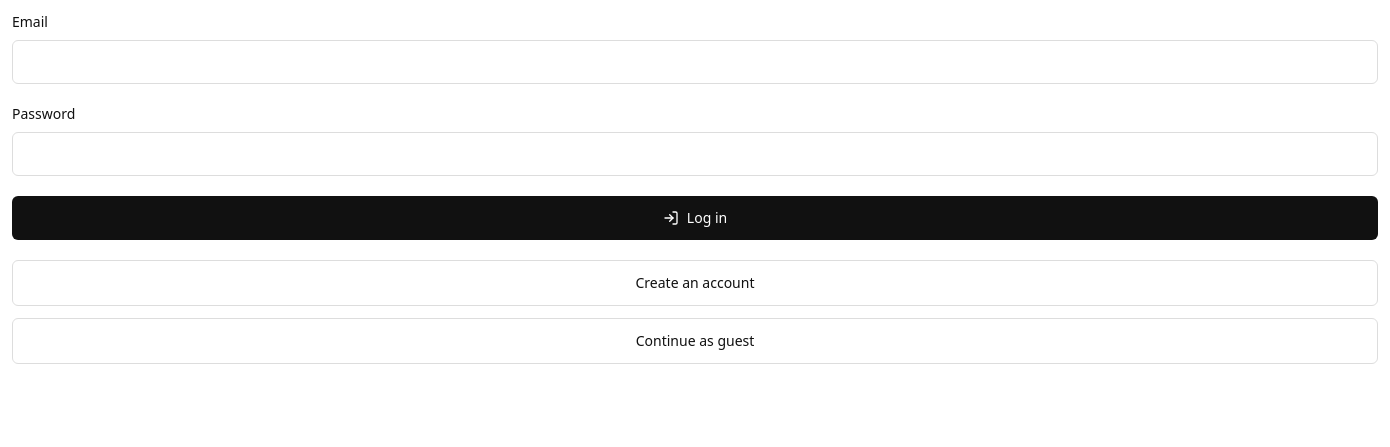
Scenario: LoginForm › validates before sending
Type "alice@" into the field labelled "Email" at (695, 62), box left=12, top=40, right=1378, bottom=84
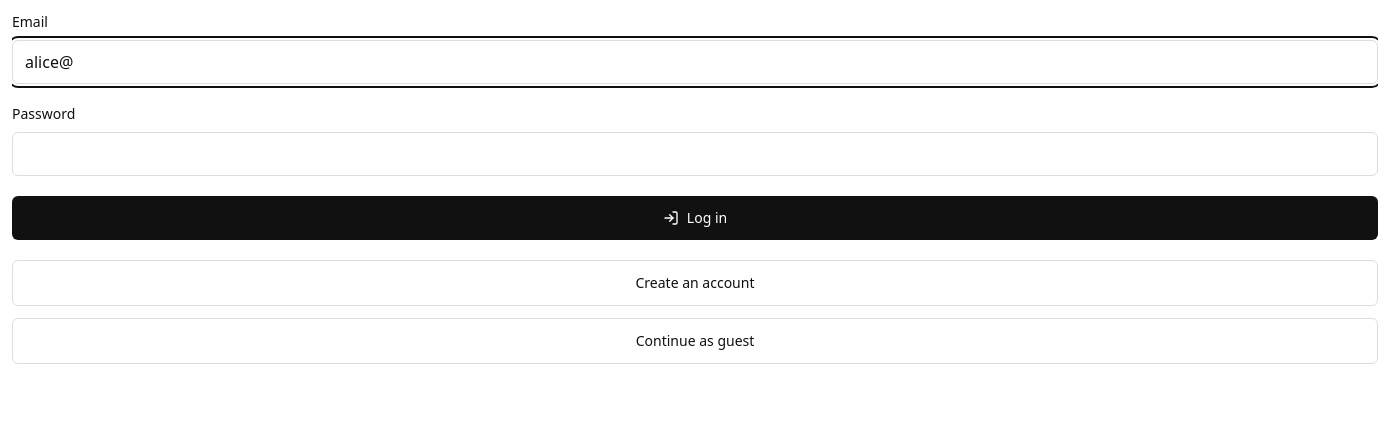
Click the button "Log in" at (695, 218), box left=12, top=196, right=1378, bottom=240
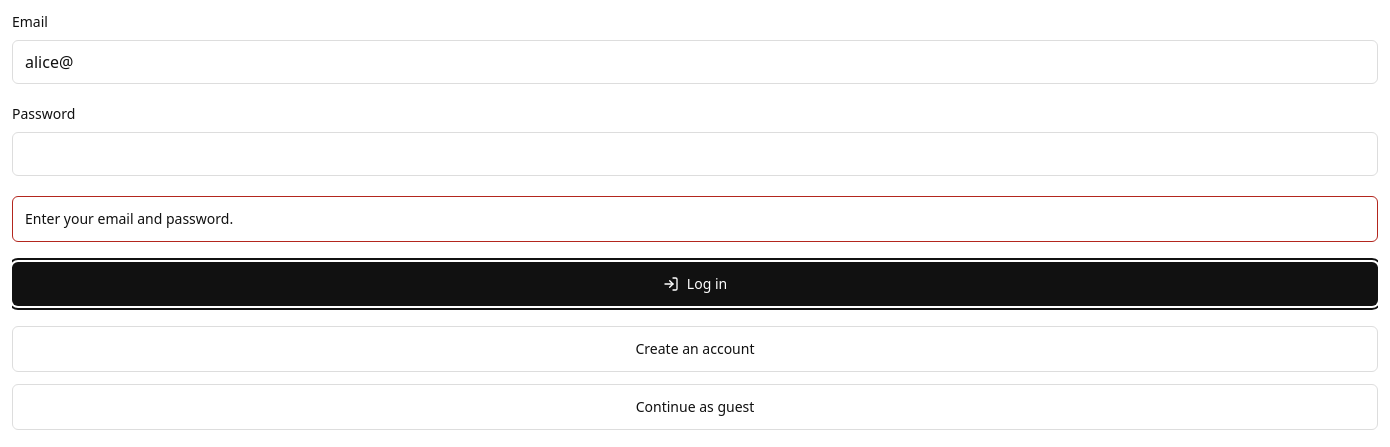
Now the message reads "Enter your email and password.", box left=25, top=209, right=233, bottom=228
